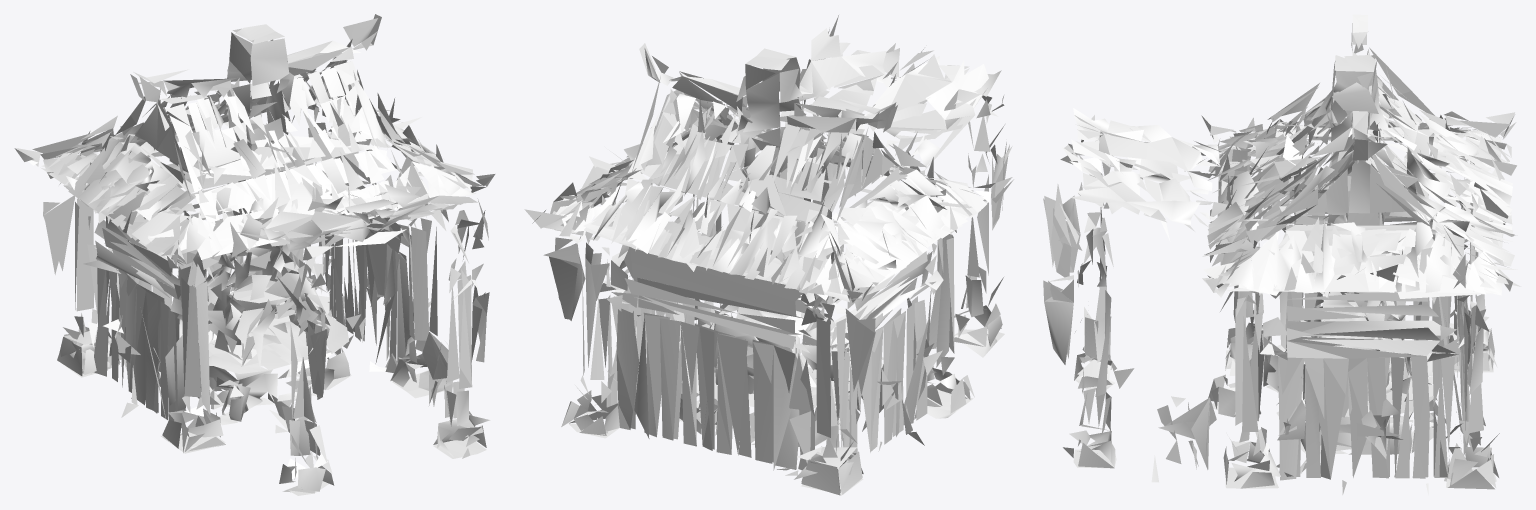
File: forge_smithy_lod2.glb
3 renders of one model, left to right at view 1: azimuth 30°, elevation 25°; view 2: azimuth 150°, elevation 25°; view 3: azimuth 270°, elevation 25°, orthographic. The views are drawn at different scales.
Parts seen in each view (by area): view 1: forge_smithy; view 2: forge_smithy; view 3: forge_smithy.
Part boxes in pixels (x1,y1,x2,y2): forge_smithy: [14, 14, 495, 495]; forge_smithy: [524, 15, 1013, 495]; forge_smithy: [1043, 14, 1521, 495].
Bounding box in the file's own units: 9.13 × 9.23 × 10.91.
Materials: 1 (1 with a texture image).
